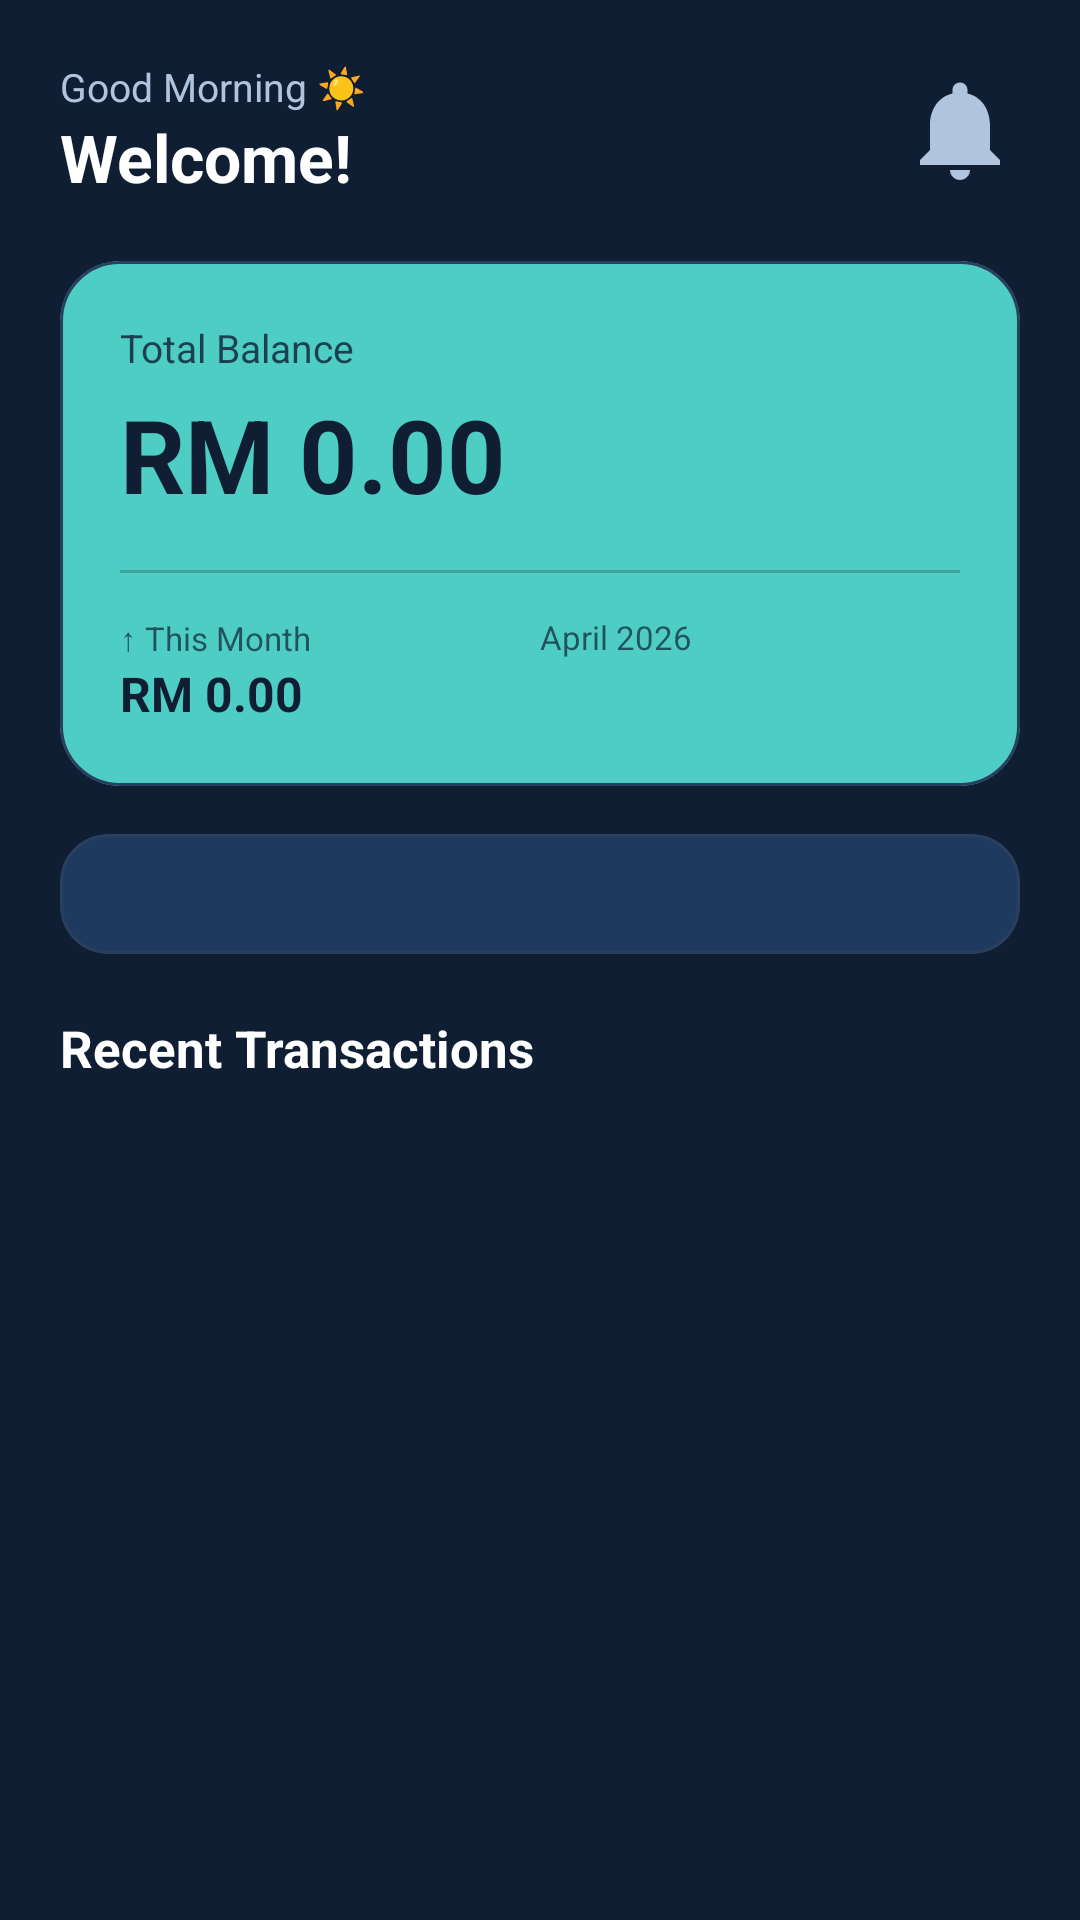

Named icons in this screenshot (1080px x 1920px) and their bounding boxes, (x1, y1, x2, y2):
notification: (920, 82, 1000, 180)
